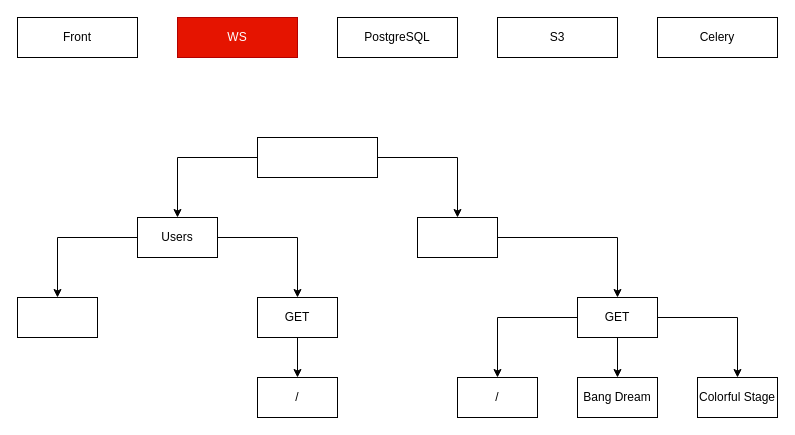
This 795x435 diagram has some shape labels left out. Here are the shapes that lost their labels. From the top down, the centre of each, then its label:
At (x=317, y=157): "Backend".
At (x=457, y=237): "Games".
At (x=57, y=317): "POST".
